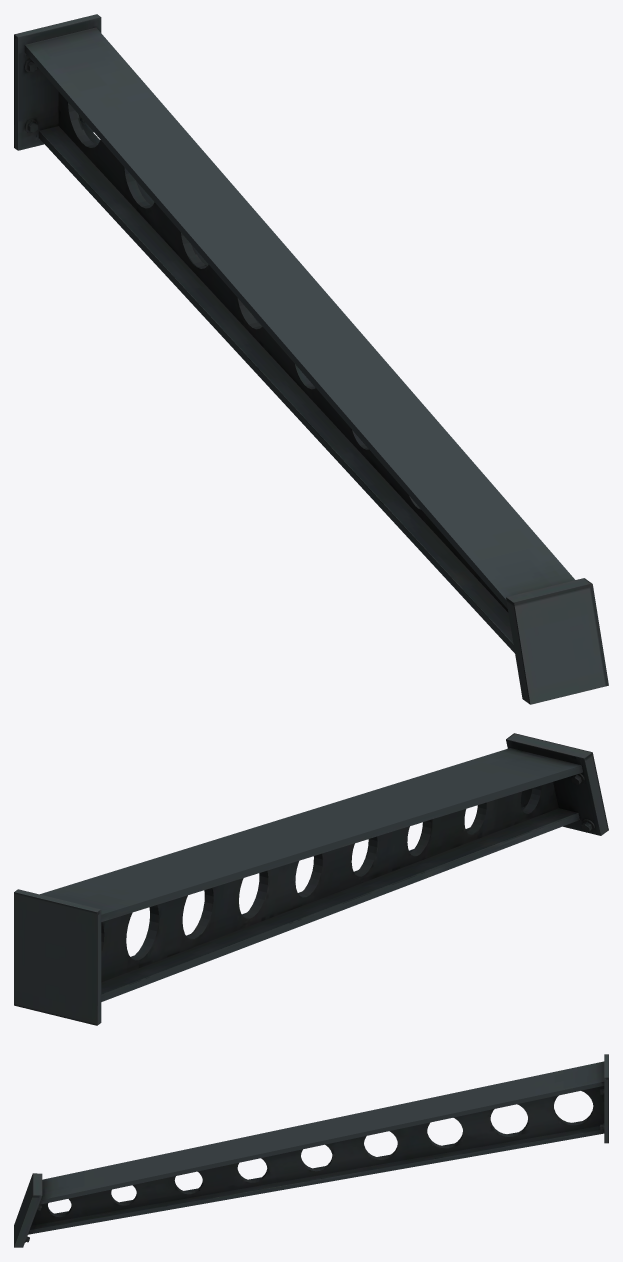
3 views of the same model, one above another, from view 1: azimuth 30°, elevation 25°; view 2: azimuth 150°, elevation 25°; view 3: azimuth 270°, elevation 25° (orthographic). The views are drawn at different scales.
Visible parts, largest first — view 1: body0_model0_lod0_mesh0; view 2: body0_model0_lod0_mesh0; view 3: body0_model0_lod0_mesh0.
Part boxes in pixels (x1,y1,x2,y2): body0_model0_lod0_mesh0: (14,14,608,704); body0_model0_lod0_mesh0: (14,733,608,1025); body0_model0_lod0_mesh0: (14,1054,608,1247).
Bounding box in the file's own units: 23.28 × 78.83 × 249.
Materials: 1 (1 with a texture image).
